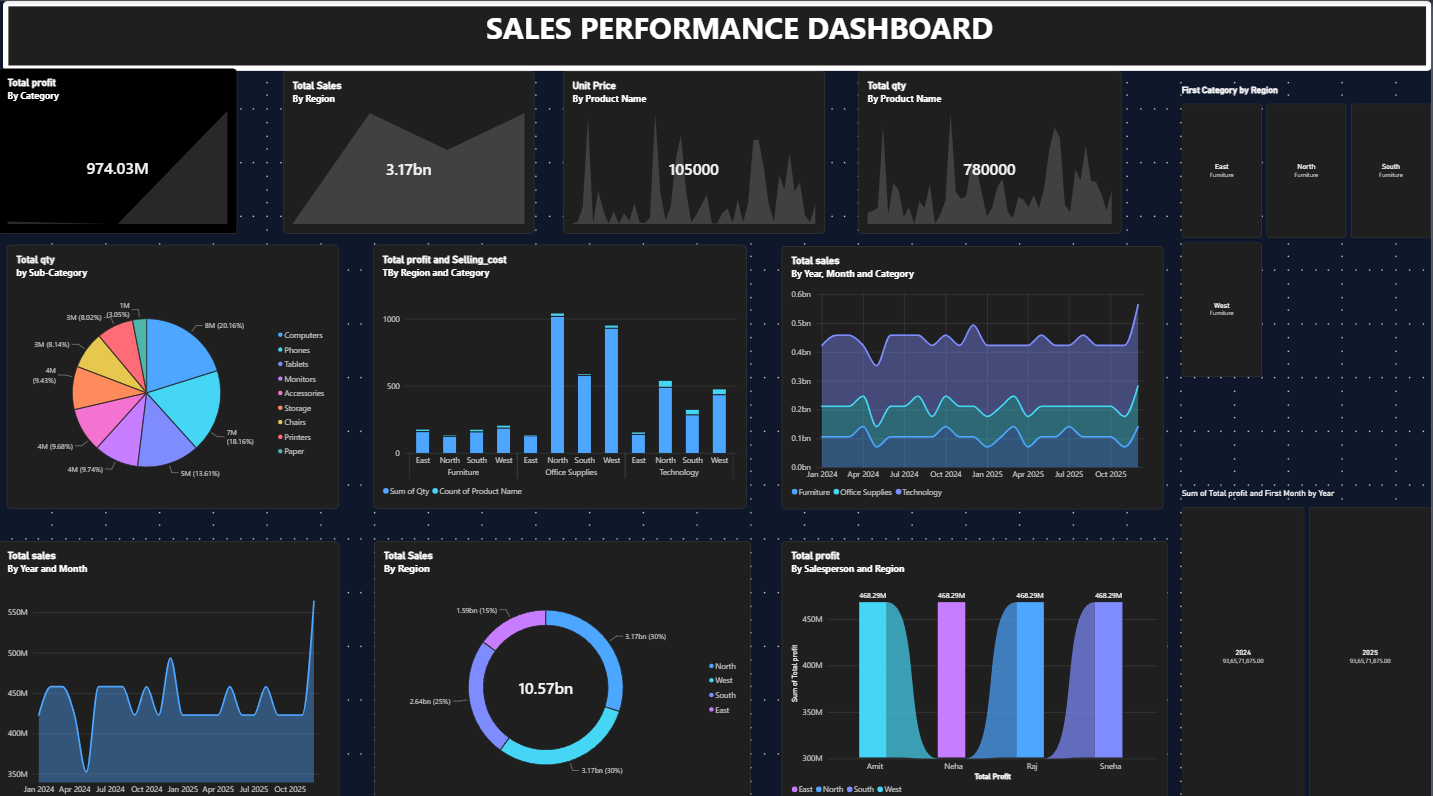

Layout of this report page (visuals, bound fields, positions):
{"tool":"powerbi","page":{"name":"Page 1","canvas":[2560,1440],"ordinal":0},"visuals":[{"type":"textbox","box":[9.6,0,2551.2,124.8],"z":0},{"type":"kpi","title":" Total profit","fields":{"Indicator":["Sum(Sheet2.Total profit)"],"TrendLine":["Sheet2.Category"]},"box":[0,120,427.2,295.2],"z":1000},{"type":"kpi","title":"Total Sales","fields":{"Indicator":["Sum(Sheet2.Total_sales)"],"TrendLine":["Sheet2.Region"]},"box":[508.8,124.8,448.8,290.4],"z":2000},{"type":"kpi","title":"Total qty","fields":{"Indicator":["Sum(Sheet2.Total qty)"],"TrendLine":["Sheet2.Product Name"]},"box":[1536,124.8,470.4,290.4],"z":3000},{"type":"kpi","title":"Unit Price","fields":{"Indicator":["Sum(Sheet2.Unit Price)"],"TrendLine":["Sheet2.Product Name"]},"box":[1008,124.8,468,290.4],"z":4000},{"type":"donutChart","title":"Total Sales","fields":{"Category":["Sheet2.Region"],"Y":["Sum(Sheet2.Total_sales)"]},"box":[672,964.5,672,464.4],"z":5000},{"type":"pieChart","title":" Total qty","fields":{"Category":["Sheet2.Sub-Category"],"Y":["Sum(Sheet2.Total qty)"]},"box":[15.6,435.3,593.9,471.1],"z":6000},{"type":"lineStackedColumnComboChart","title":"Total profit and  Selling_cost","fields":{"Category":["Sheet2.Category","Sheet2.Region"],"Y":["Sum(Sheet2.Qty)","CountNonNull(Sheet2.Product Name)"]},"box":[669.8,435.3,667.5,471.1],"z":7000},{"type":"areaChart","title":" Total sales","fields":{"Category":["Sheet2.Order Date.Variation.Date Hierarchy.Year","Sheet2.Order Date.Variation.Date Hierarchy.Month"],"Y":["Sum(Sheet2.Total_sales)"]},"box":[0,964.5,609.5,475.5],"z":8000},{"type":"ribbonChart","title":" Total profit","fields":{"Category":["Sheet2.Salesperson"],"Series":["Sheet2.Region"],"Y":["Sum(Sheet2.Total profit)"]},"box":[1399.2,964.8,688.8,475.2],"z":9000},{"type":"stackedAreaChart","title":" Total sales","fields":{"Category":["Sheet2.Order Date.Variation.Date Hierarchy.Year","Sheet2.Order Date.Variation.Date Hierarchy.Month"],"Series":["Sheet2.Category"],"Y":["Sum(Sheet2.Total_sales)"]},"box":[1399.2,436.8,681.6,470.4],"z":9001},{"type":"advancedSlicerVisual","fields":{"Label":["Min(Sheet2.Category)"],"Values":["Sheet2.Region"]},"box":[2114.4,148.8,446.4,523.2],"z":9002},{"type":"advancedSlicerVisual","fields":{"Label":["Sum(Sheet2.Total profit)"],"Values":["Sheet2.Order Date.Variation.Date Hierarchy.Year"]},"box":[2114.4,871.2,446.4,568.8],"z":9003}]}

Visuals, with their boxes in screenshot pixels (x1, y1, x2, y2), scaled from the page's 2560x1440 canvas onto the 1433x796 screenshot:
textbox: 5 0 1432 69
" Total profit" kpi: 0 66 239 230
"Total Sales" kpi: 285 69 536 230
"Total qty" kpi: 860 69 1123 230
"Unit Price" kpi: 564 69 826 230
"Total Sales" donutChart: 376 533 752 790
" Total qty" pieChart: 9 241 341 501
"Total profit and  Selling_cost" lineStackedColumnComboChart: 375 241 749 501
" Total sales" areaChart: 0 533 341 795
" Total profit" ribbonChart: 783 533 1169 795
" Total sales" stackedAreaChart: 783 241 1165 501
advancedSlicerVisual - Min(Sheet2.Category) x Sheet2.Region: 1184 82 1432 371
advancedSlicerVisual - Sum(Sheet2.Total profit) x Sheet2.Order Date.Variation.Date Hierarchy.Year: 1184 482 1432 795
